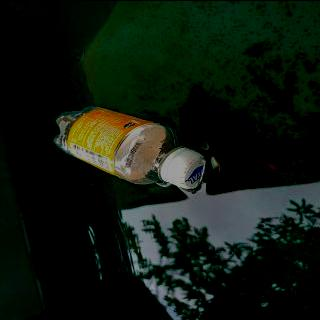bottle: (51, 104, 208, 189)
